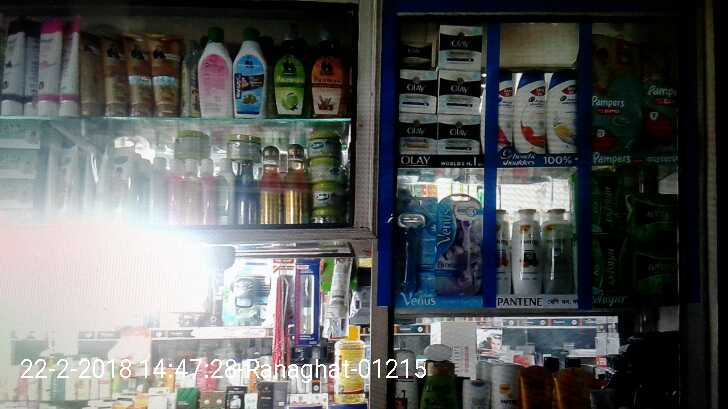venus: (436, 194, 481, 293), (397, 195, 436, 293)
